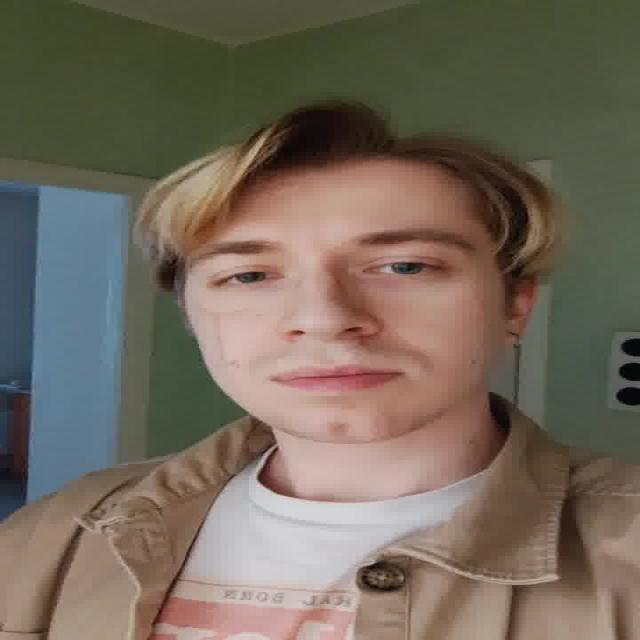earlobe: (496, 271, 539, 346)
